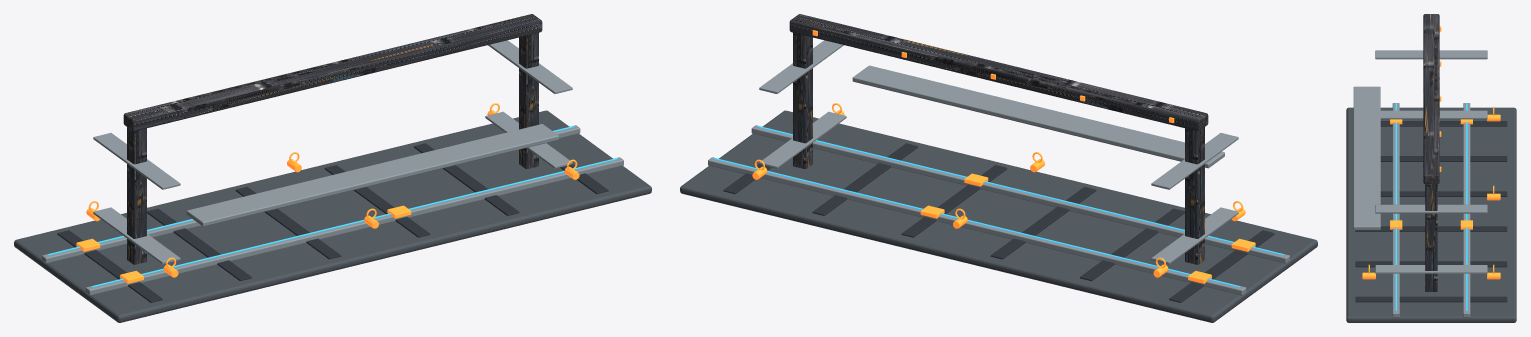
File: resonance_rail_system.glb
3 views of the same model, side by side, from view 1: azimuth 30°, elevation 25°; view 2: azimuth 150°, elevation 25°; view 3: azimuth 270°, elevation 25° (orthographic). The views are drawn at different scales.
Visible parts, largest first — view 1: Foundation/plate, Gantry/header, Maintenance/catwalk, Rail/rail_1.7, Gantry/column_-8.8, Gantry/column_8.8, Gantry/brace_-8.8_4.4, Gantry/brace_-8.8_1.2, Rail/rail_-1.7, Gantry/brace_8.8_4.4, Rail/Sleeper/1, Rail/glow_1.7 (+5 smaller); view 2: Foundation/plate, Gantry/header, Maintenance/catwalk, Rail/rail_-1.7, Rail/rail_1.7, Gantry/column_-8.8, Gantry/column_8.8, Gantry/brace_-8.8_4.4, Gantry/brace_8.8_1.2, Gantry/brace_-8.8_1.2, Gantry/brace_8.8_4.4, Rail/Sleeper/4 (+6 smaller); view 3: Foundation/plate, Maintenance/catwalk, Gantry/header, Gantry/column_8.8, Rail/rail_1.7, Rail/rail_-1.7, Gantry/brace_8.8_4.4, Rail/Sleeper/5, Gantry/brace_-8.8_4.4, Gantry/brace_8.8_1.2, Gantry/brace_-8.8_1.2, Rail/Sleeper/3 (+6 smaller).
Part boxes in pixels (x1,y1,x2,y2): Foundation/plate: [14, 110, 651, 322]; Gantry/header: [123, 14, 542, 131]; Maintenance/catwalk: [186, 124, 558, 226]; Rail/rail_1.7: [85, 157, 623, 295]; Gantry/column_-8.8: [127, 127, 146, 264]; Gantry/column_8.8: [519, 32, 538, 168]; Gantry/brace_-8.8_4.4: [93, 133, 180, 189]; Gantry/brace_-8.8_1.2: [93, 207, 180, 264]; Rail/rail_-1.7: [42, 125, 580, 263]; Gantry/brace_8.8_4.4: [488, 40, 572, 93]; Rail/Sleeper/1: [147, 208, 251, 280]; Rail/glow_1.7: [91, 158, 617, 287]; Foundation/plate: [680, 110, 1317, 322]; Gantry/header: [789, 14, 1208, 131]; Maintenance/catwalk: [852, 65, 1224, 168]; Rail/rail_-1.7: [708, 157, 1246, 295]; Rail/rail_1.7: [751, 125, 1289, 263]; Gantry/column_-8.8: [1185, 127, 1204, 264]; Gantry/column_8.8: [793, 32, 812, 168]; Gantry/brace_-8.8_4.4: [1151, 133, 1238, 189]; Gantry/brace_8.8_1.2: [759, 111, 846, 168]; Gantry/brace_-8.8_1.2: [1151, 207, 1238, 264]; Gantry/brace_8.8_4.4: [759, 40, 843, 93]; Rail/Sleeper/4: [812, 143, 917, 215]; Foundation/plate: [1346, 107, 1516, 322]; Maintenance/catwalk: [1353, 86, 1380, 229]; Gantry/header: [1423, 14, 1439, 183]; Gantry/column_8.8: [1425, 184, 1437, 291]; Rail/rail_1.7: [1392, 103, 1399, 317]; Rail/rail_-1.7: [1463, 103, 1470, 317]; Gantry/brace_8.8_4.4: [1375, 204, 1487, 213]; Rail/Sleeper/5: [1355, 296, 1507, 302]; Gantry/brace_-8.8_4.4: [1375, 50, 1487, 59]; Gantry/brace_8.8_1.2: [1375, 265, 1487, 273]; Gantry/brace_-8.8_1.2: [1380, 110, 1487, 119]; Rail/Sleeper/3: [1355, 226, 1507, 231].
Bounding box in the file's own units: 24 × 6.61 × 8.2.
Materials: 6 (1 with a texture image).
